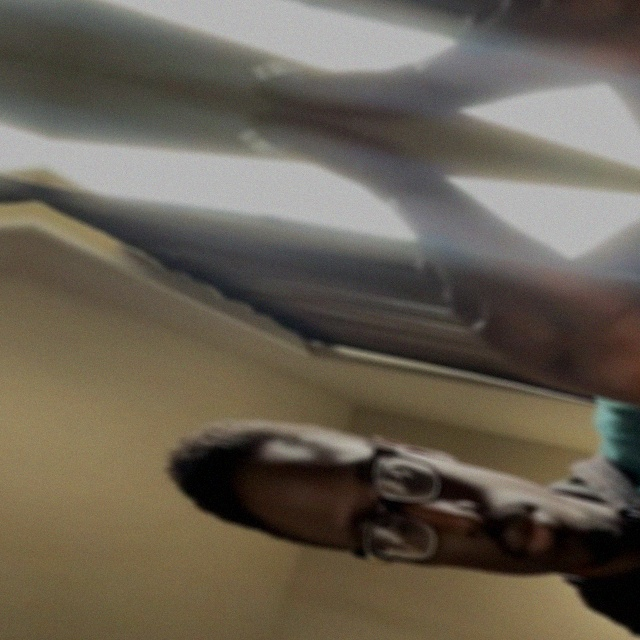Paper: (209, 107, 640, 444)
